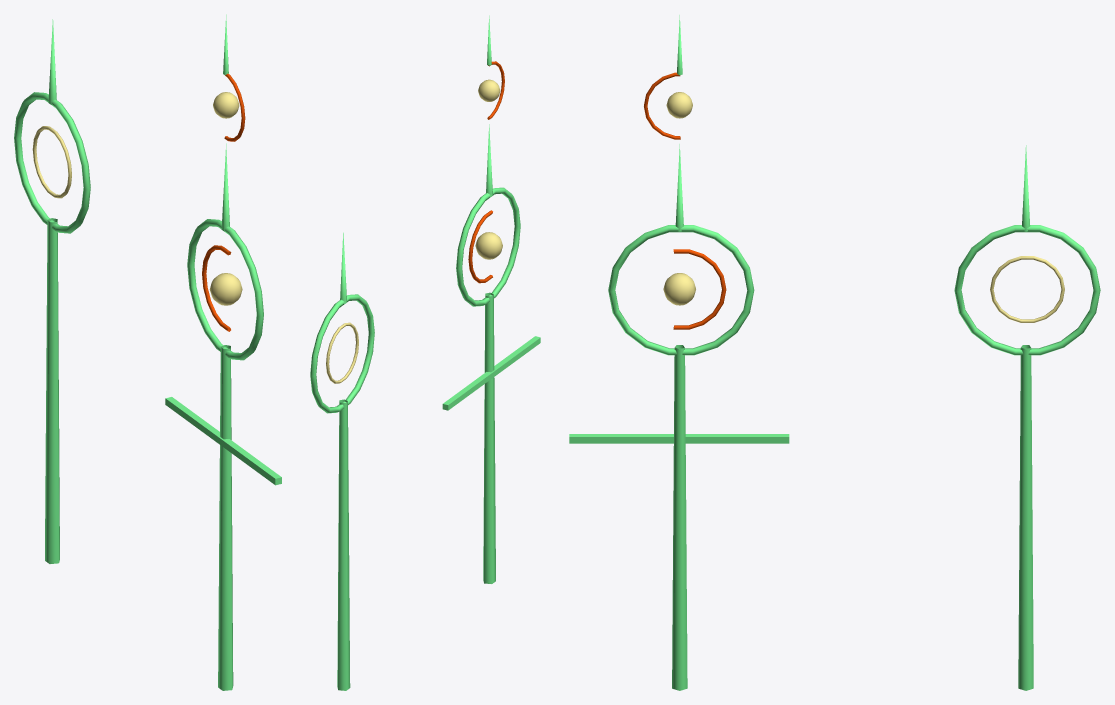
Rendered from roof_spikes.FBX.
3 renders of one model, left to right at view 1: azimuth 30°, elevation 25°; view 2: azimuth 150°, elevation 25°; view 3: azimuth 270°, elevation 25°, orthographic. The views are drawn at different scales.
Parts seen in each view (by area): view 1: Cylinder002, Cylinder001, Torus001, Torus004, Box002, Sphere002, Torus002, Torus003, Sphere001; view 2: Cylinder002, Cylinder001, Torus004, Torus001, Box002, Sphere002, Torus002, Torus003, Sphere001; view 3: Cylinder002, Cylinder001, Torus004, Torus001, Box002, Torus002, Sphere002.
Boxes of the visible parts, bbox=[...] form: Cylinder002: bbox=[218, 14, 233, 690]; Cylinder001: bbox=[45, 19, 59, 563]; Torus001: bbox=[14, 92, 90, 233]; Torus004: bbox=[187, 219, 263, 360]; Box002: bbox=[165, 397, 281, 485]; Sphere002: bbox=[209, 273, 242, 305]; Torus002: bbox=[32, 126, 71, 198]; Torus003: bbox=[202, 245, 231, 331]; Sphere001: bbox=[213, 92, 239, 118]; Cylinder002: bbox=[483, 15, 495, 583]; Cylinder001: bbox=[337, 232, 350, 690]; Torus004: bbox=[456, 187, 520, 306]; Torus001: bbox=[310, 294, 374, 413]; Box002: bbox=[442, 336, 540, 410]; Sphere002: bbox=[475, 232, 502, 259]; Torus002: bbox=[326, 322, 358, 383]; Torus003: bbox=[468, 210, 492, 283]; Sphere001: bbox=[478, 79, 500, 101]; Cylinder002: bbox=[672, 15, 687, 690]; Cylinder001: bbox=[1018, 145, 1033, 690]; Torus004: bbox=[608, 225, 754, 355]; Torus001: bbox=[954, 225, 1100, 355]; Box002: bbox=[569, 434, 789, 443]; Torus002: bbox=[990, 256, 1064, 322]; Sphere002: bbox=[663, 273, 695, 305].
Bounding box in the file's own units: 0.8469 × 19.13 × 13.68.
